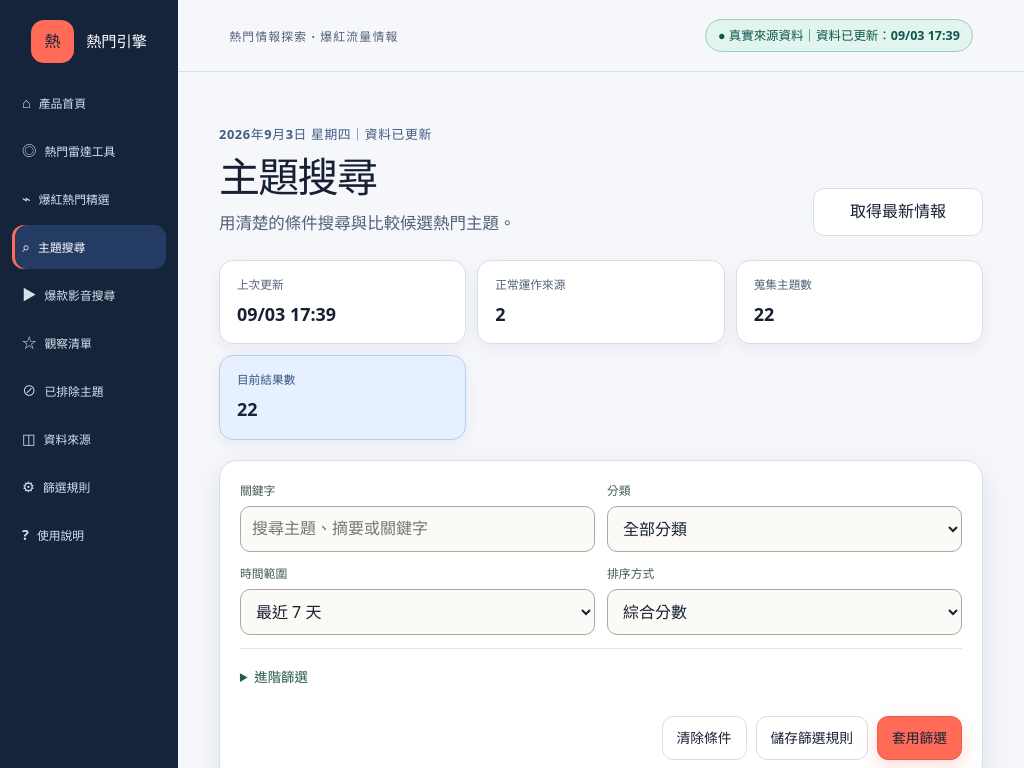
Scenario: RC2搜尋篩選使用性 › 顯示啟用的進階條件數、結果數及有效條件摘要
Click the heading "進階篩選" at (281, 677), box [254,668,308,686]
(page scrolled)
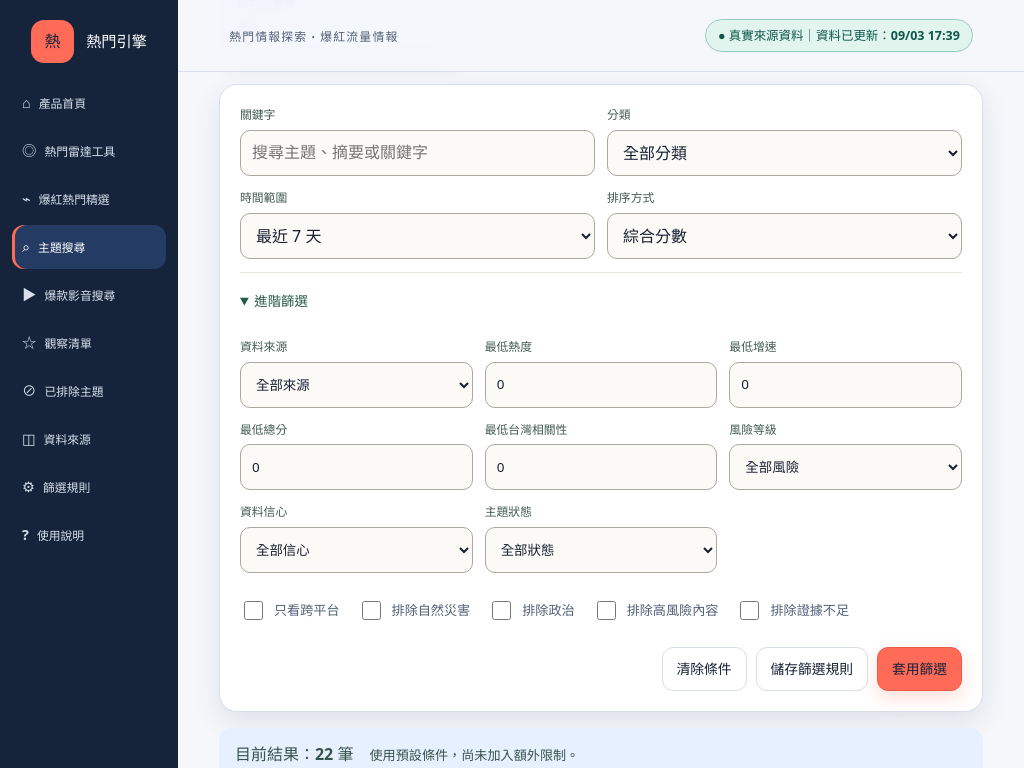
Select "YouTube影音平台" in the dropdown labelled "資料來源" at (356, 384), box [240,362,473,408]
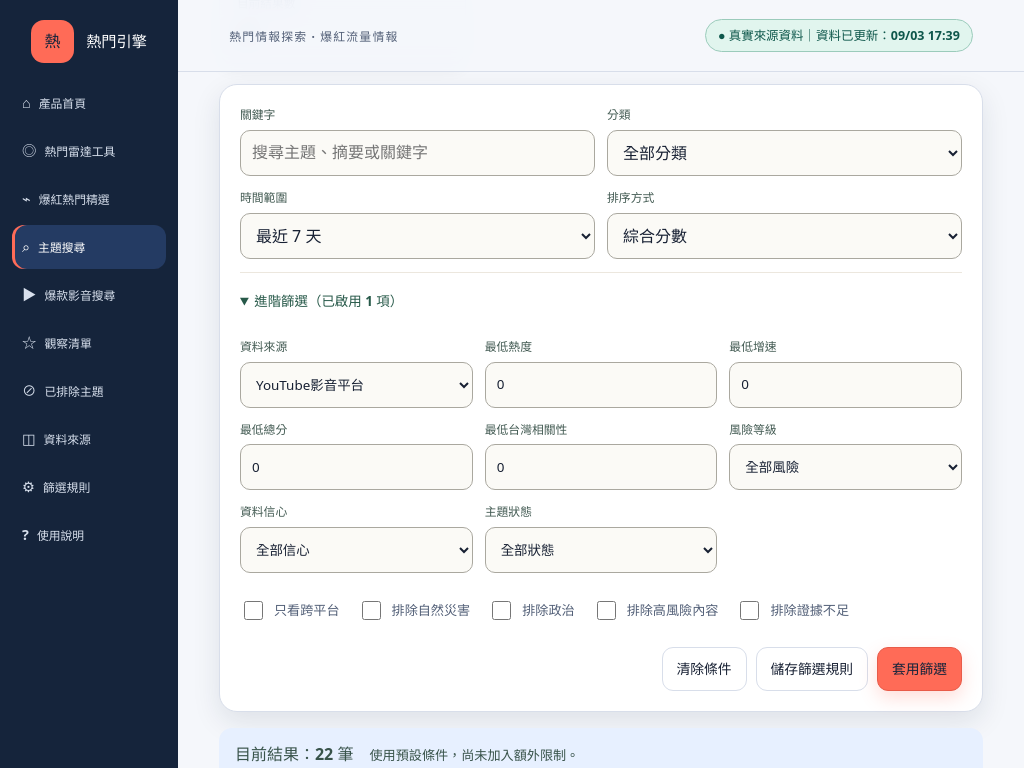
Replace the text in the number field labelled "最低熱度" with "70" at (601, 384), box [485,362,717,408]
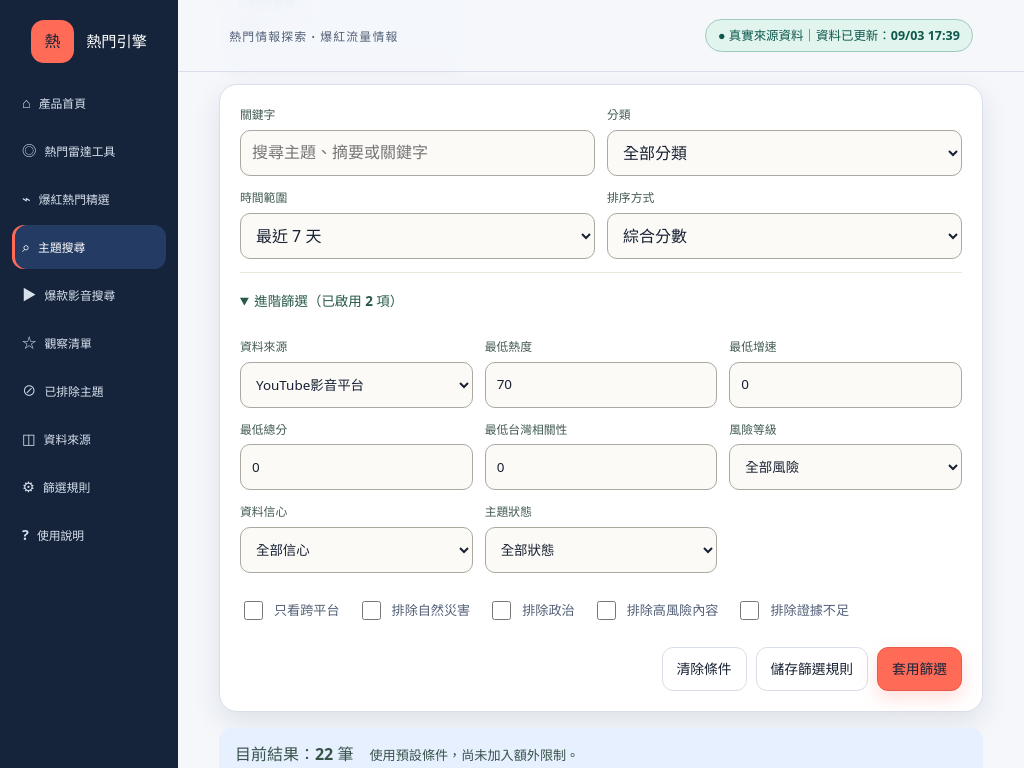
Click the checkbox labelled "只看跨平台" at (254, 610), box [244,601,263,620]
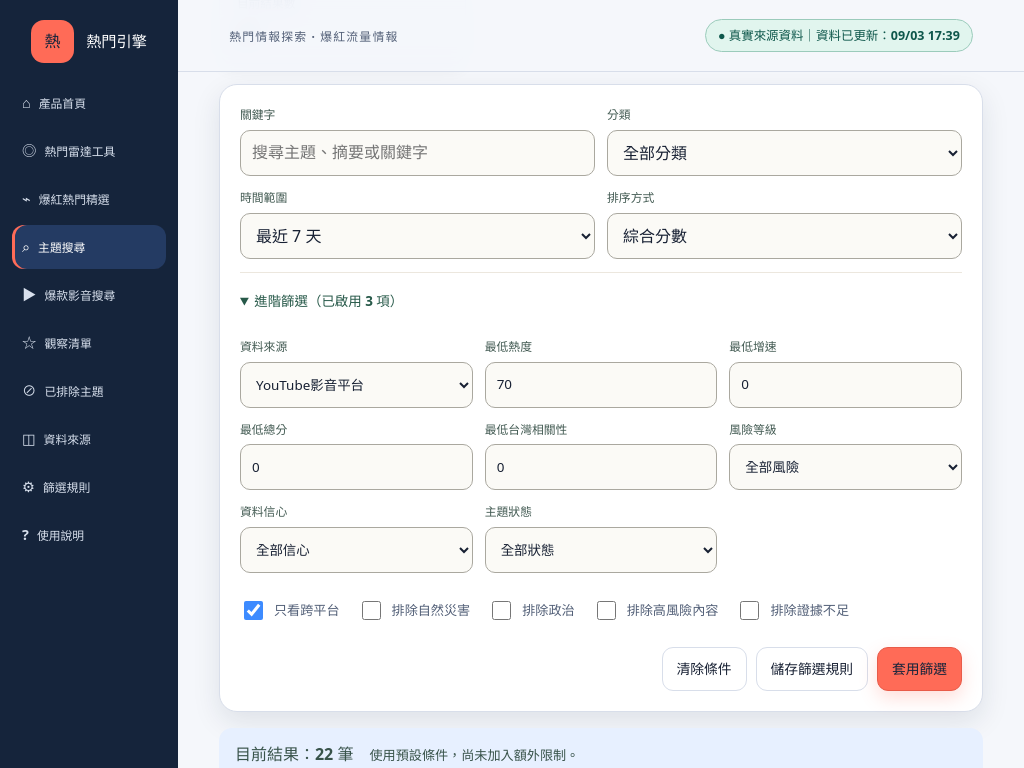
Result: the heading "進階篩選（已啟用 3 項）" is shown at [254,292,403,310]
Click the button "套用篩選" at (920, 669), box [877,647,962,691]
(page scrolled)
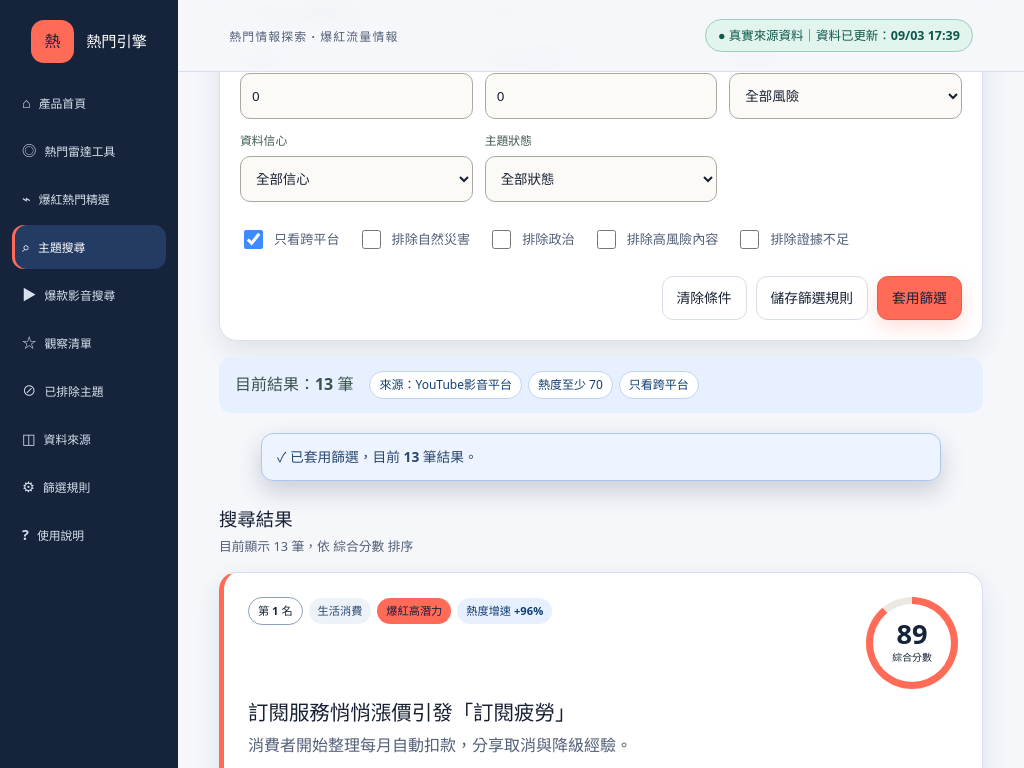
Result: the text "只看跨平台" is shown 2 times at [244,230,340,249]; [619,371,699,399]
Result: the list item "來源：YouTube影音平台" is shown at [370,371,522,399]
Result: the list item "熱度至少 70" is shown at [528,371,613,399]
